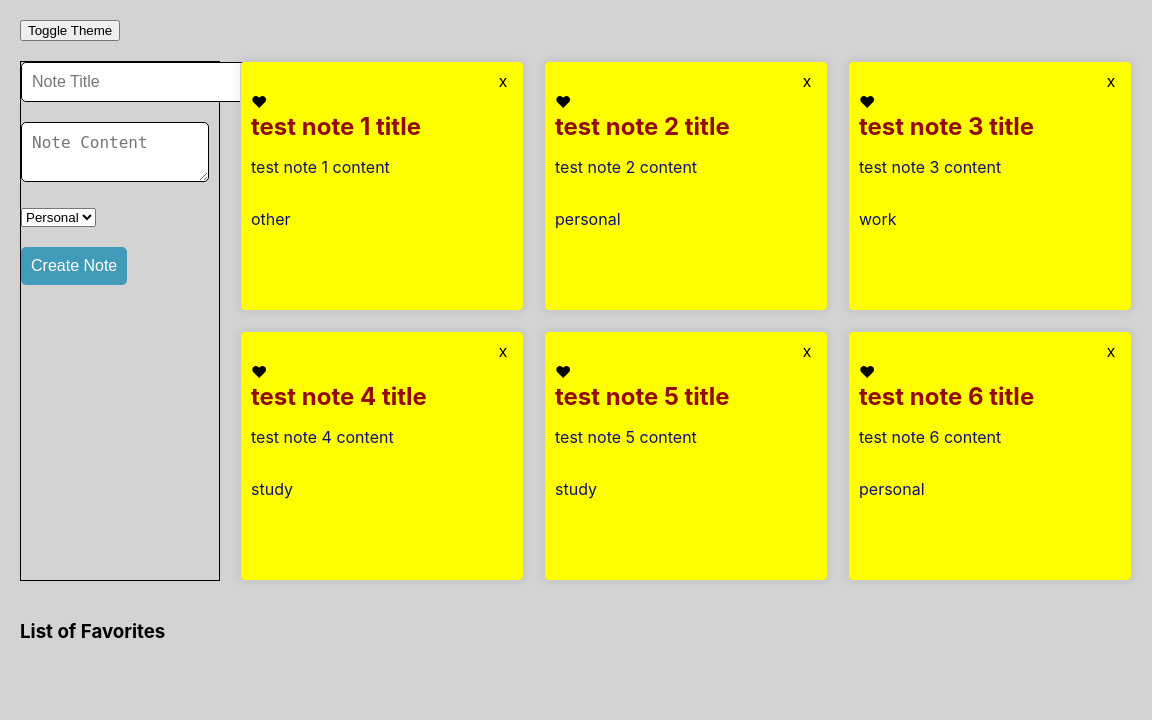
Test: Delete SitckysiNote › deletes a note
Click the 1st button "x".
click(503, 82)  # box [493,72,513,92]
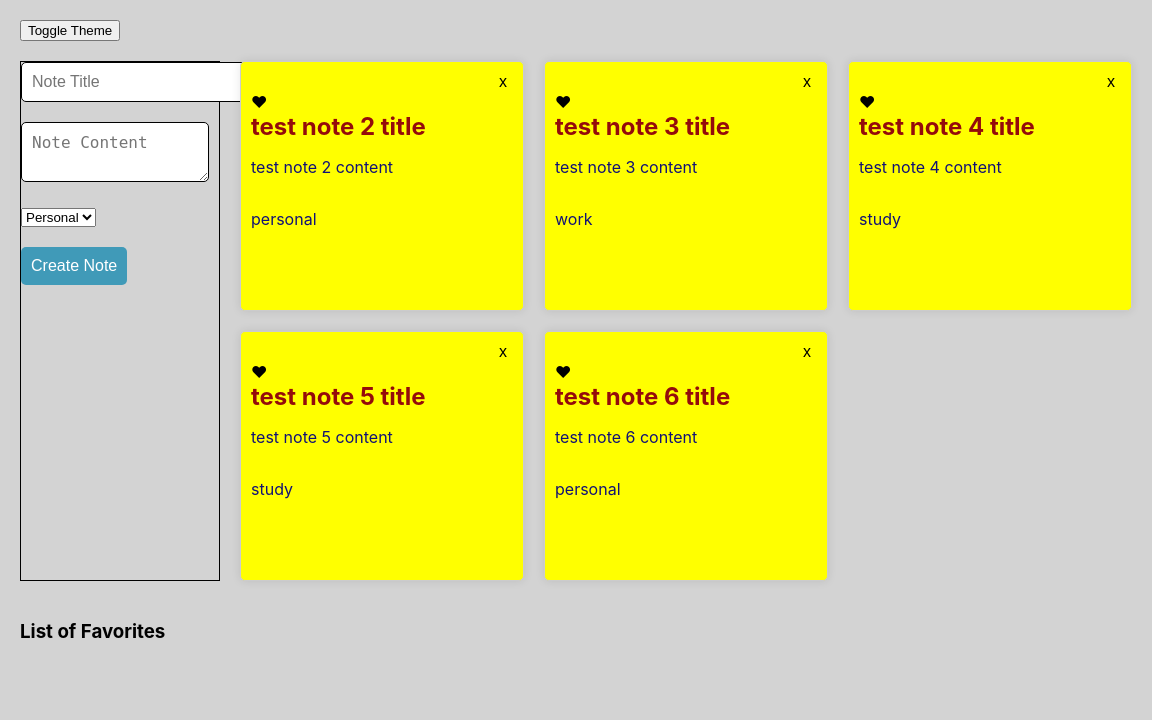
Expected: the heading "test note 1 title" is gone
